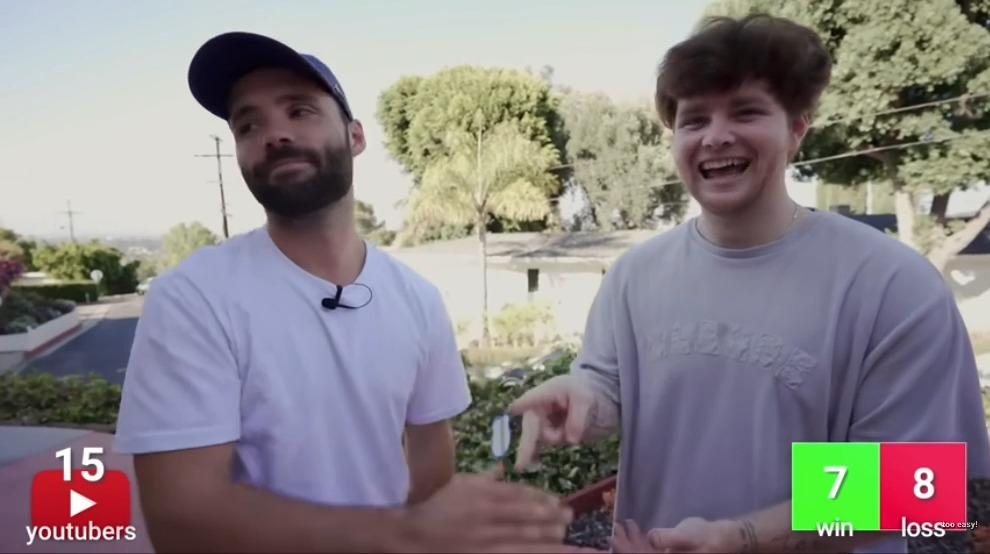Paper: (425, 468, 572, 552)
Scissors: (506, 373, 599, 474)
